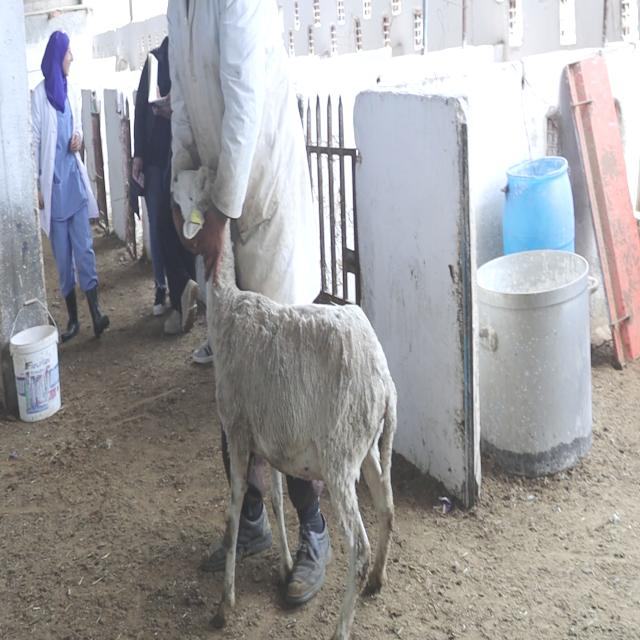Score_3: (206, 220, 397, 639)
